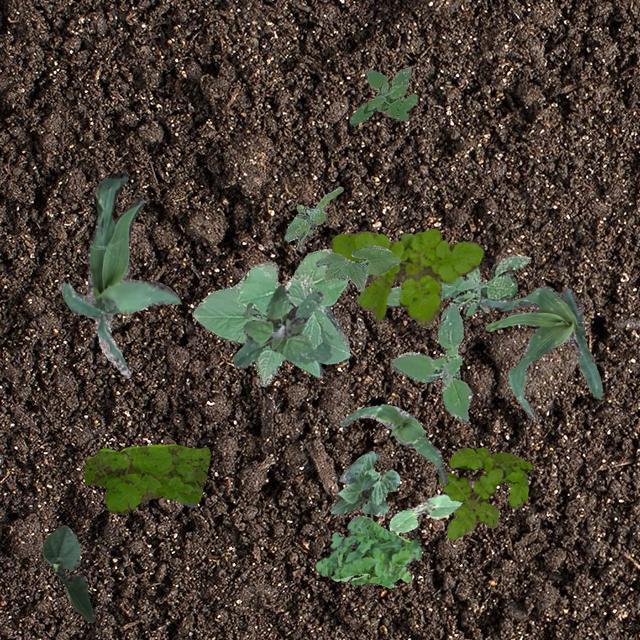crop: (59, 172, 180, 376), (192, 248, 350, 386), (478, 284, 602, 418), (338, 404, 448, 484), (40, 524, 94, 622), (329, 450, 398, 514), (314, 244, 400, 290), (388, 494, 460, 534)
weed: (384, 254, 530, 422), (328, 228, 482, 326), (82, 442, 210, 514), (442, 447, 530, 538), (312, 516, 420, 586), (232, 284, 322, 368), (348, 66, 416, 124), (284, 186, 342, 250)
